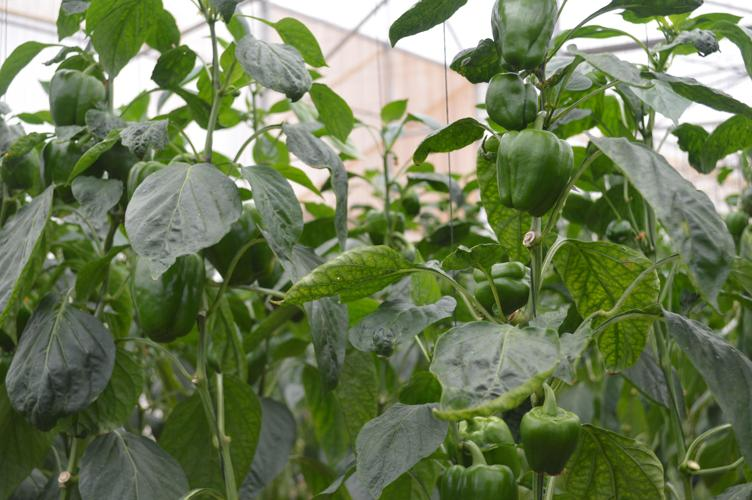BellPepper: (123, 253, 203, 339), (488, 132, 572, 213), (201, 209, 273, 283), (515, 407, 582, 472), (494, 3, 551, 69), (41, 70, 104, 116), (430, 464, 515, 497), (484, 72, 535, 126), (452, 416, 516, 459), (41, 138, 95, 187)
